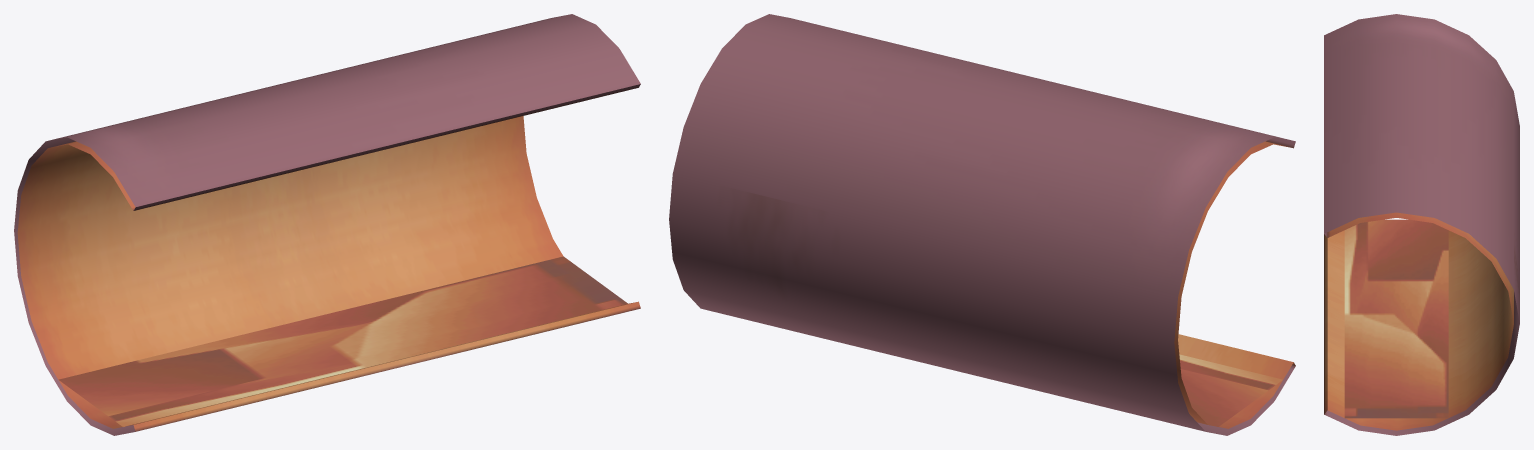
The model's file is openPipe_short 1.fbx.
3 views of the same model, side by side, from view 1: azimuth 30°, elevation 25°; view 2: azimuth 150°, elevation 25°; view 3: azimuth 270°, elevation 25° (orthographic). The views are drawn at different scales.
Visible parts, largest first — view 1: openPipe_short, openPipe_short_colFloor; view 2: openPipe_short, openPipe_short_colFloor; view 3: openPipe_short, openPipe_short_colFloor.
Boxes of the visible parts, <box> form: openPipe_short: <box>14,14,640,435</box>; openPipe_short_colFloor: <box>58,256,627,426</box>; openPipe_short: <box>669,14,1295,435</box>; openPipe_short_colFloor: <box>1179,354,1282,426</box>; openPipe_short: <box>1324,14,1519,435</box>; openPipe_short_colFloor: <box>1344,219,1448,418</box>.
Bounding box in the file's own units: 5.6 × 2.94 × 2.33.
1 material, 1 textured.
